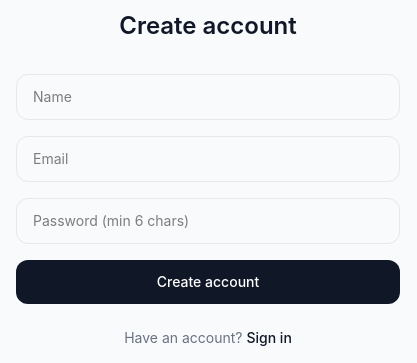
Test: SignupPage › shows check-email screen when session is null (email confirmation)
Type "Alice" into the field with placeholder "Name".
click(208, 97); type("Alice")  # box [16, 74, 400, 120]
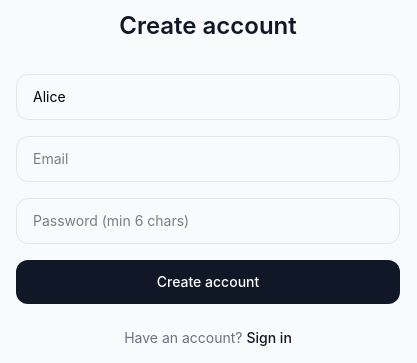
Type "a@b.com" into the field with placeholder "Email".
click(208, 159); type("a@b.com")  # box [16, 136, 400, 182]
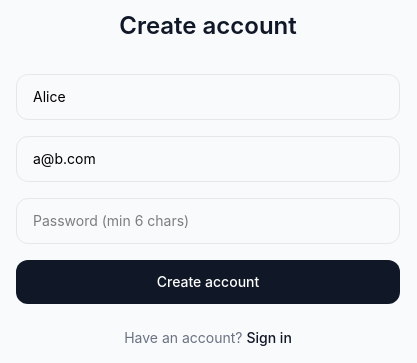
Type "pass123" into the password field with placeholder "Password (min 6 chars)".
click(208, 221); type("pass123")  # box [16, 198, 400, 244]
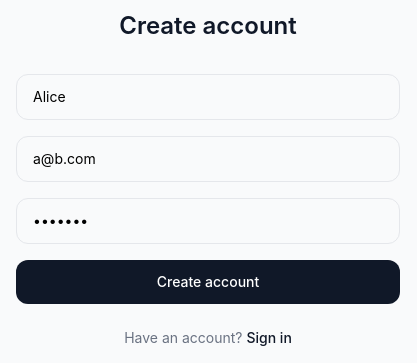
Click the button "Create account".
click(208, 282)  # box [16, 260, 400, 304]
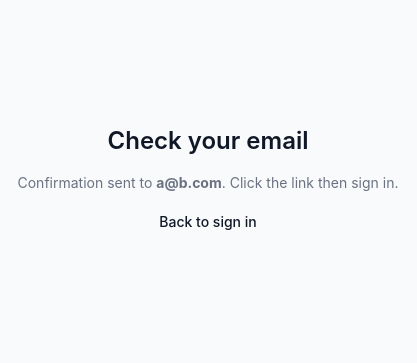
Now the heading "Check your email" is shown, box [108, 126, 308, 155]
